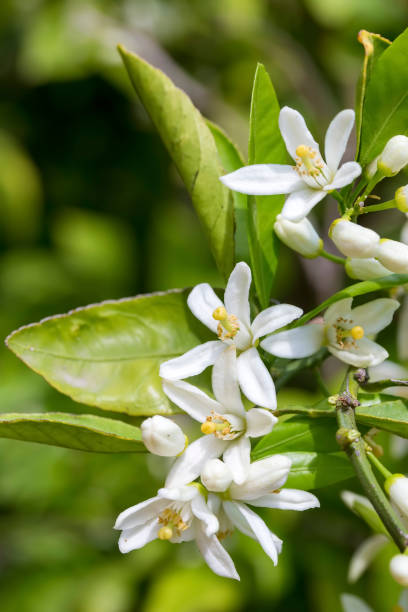flower: (157, 257, 287, 427), (214, 102, 370, 220), (155, 348, 280, 485), (115, 469, 246, 579), (261, 284, 407, 366)
